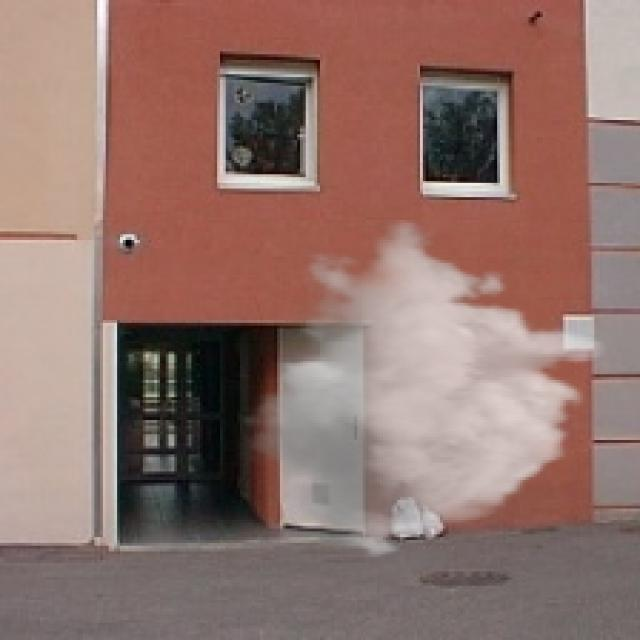smoke: (237, 217, 612, 560)
